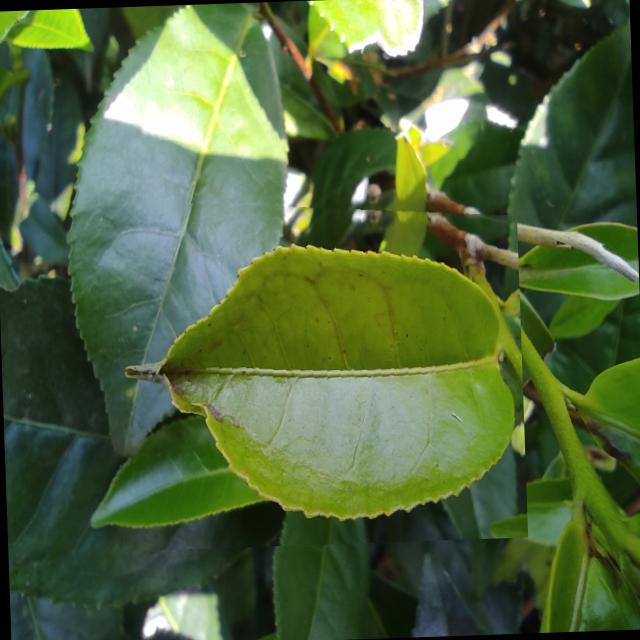Category C(4-7 days): (110, 185, 528, 551)
